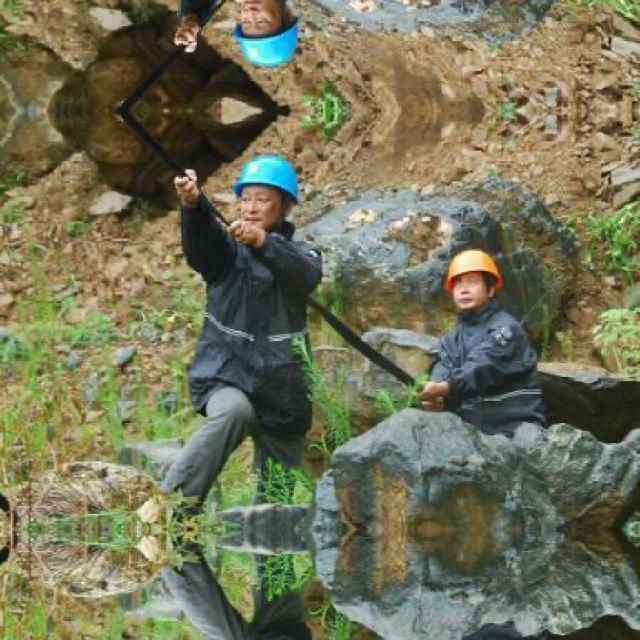helmet: (225, 147, 308, 236), (225, 0, 309, 74), (438, 240, 509, 311)
